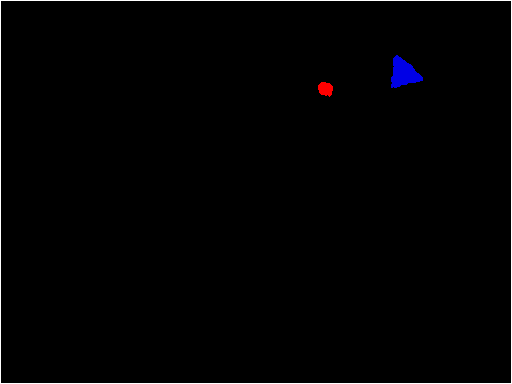chipped: (395, 60, 418, 86)
detached: (320, 82, 336, 95)
